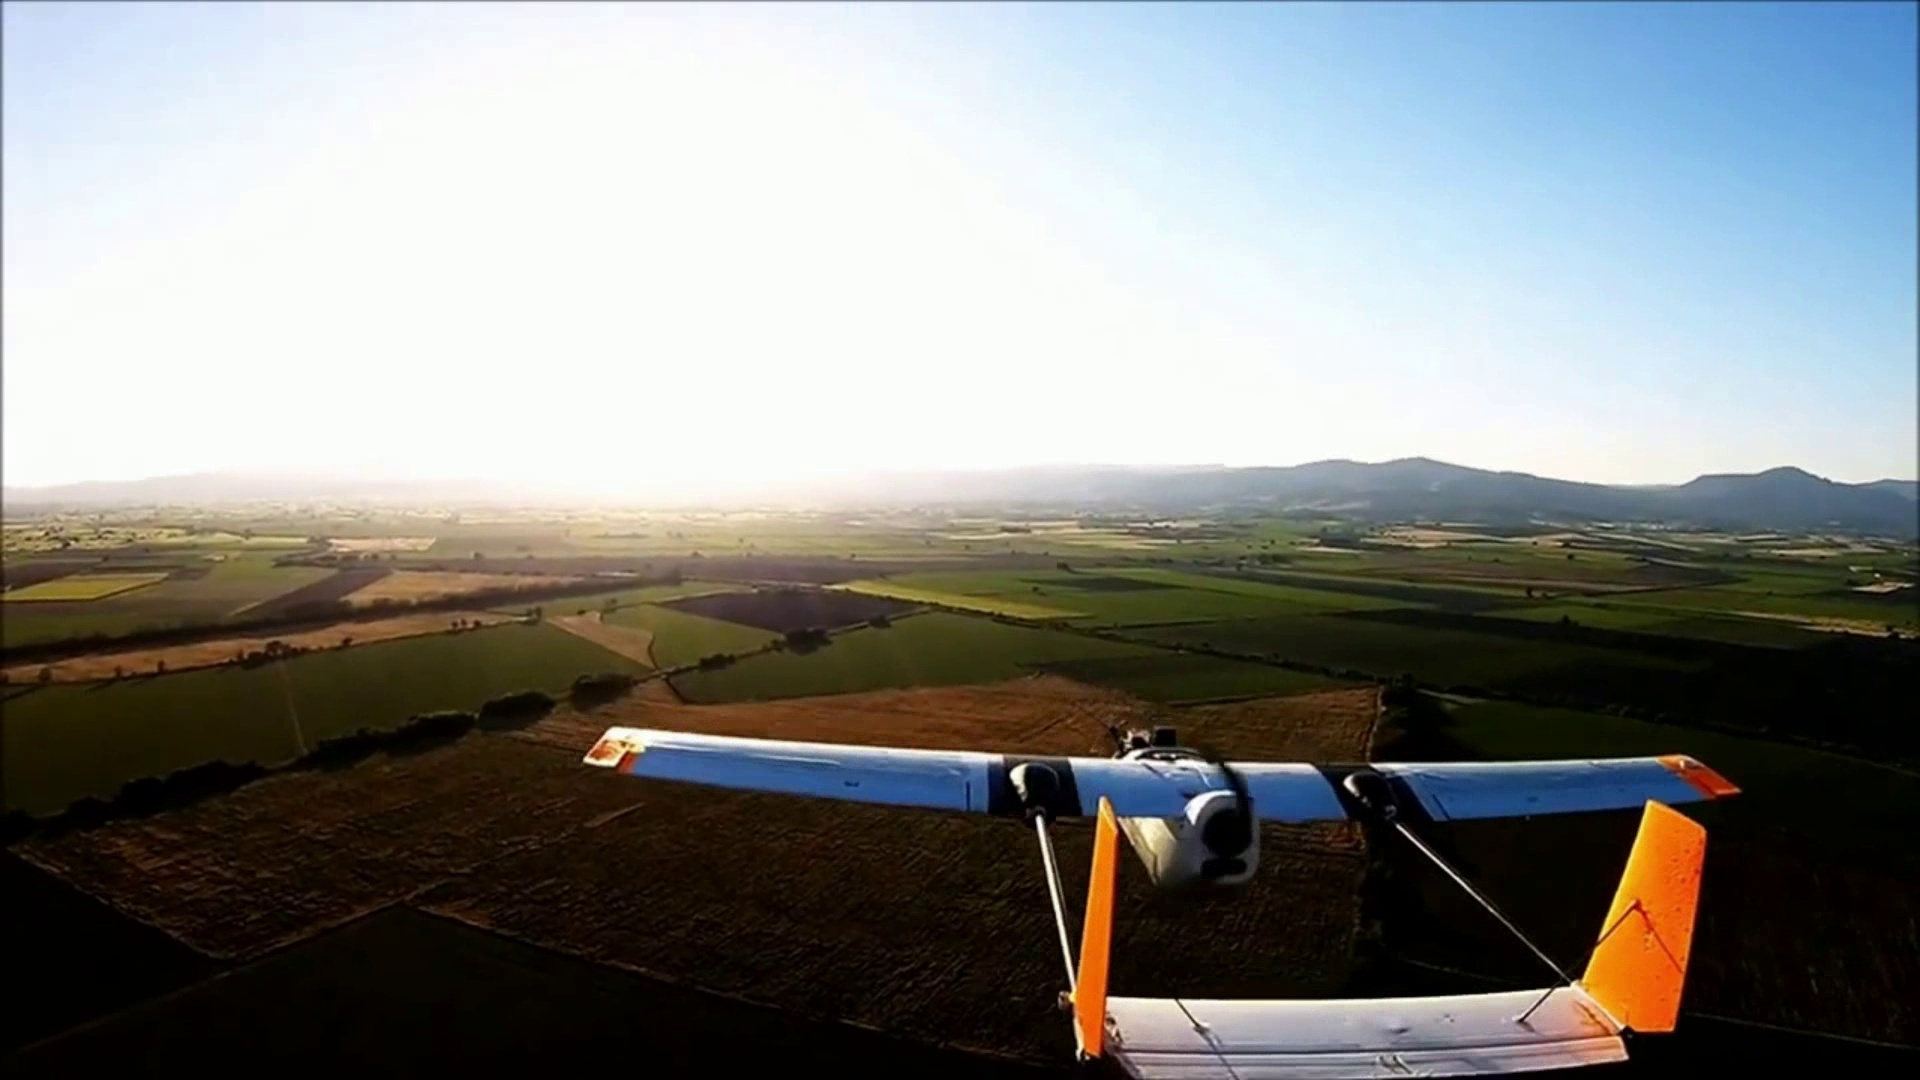airplane: (580, 722, 1741, 1069)
